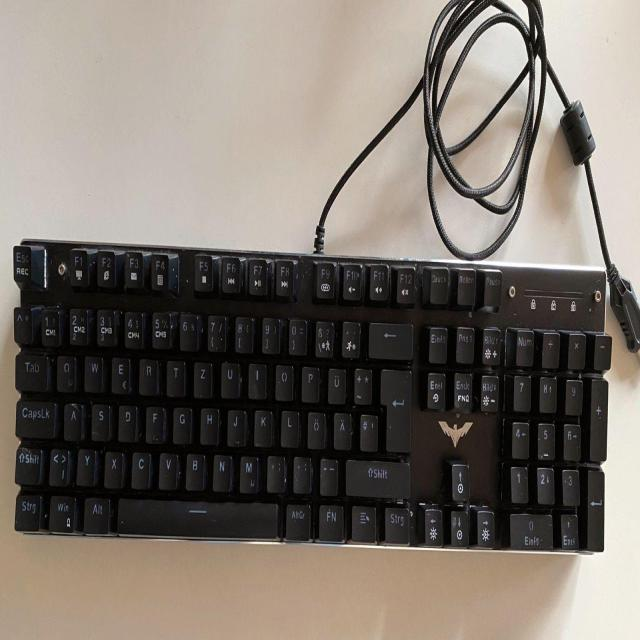0: (287, 315, 307, 354)
1: (39, 305, 60, 346)
2: (67, 305, 88, 343)
3: (95, 306, 116, 346)
4: (123, 309, 144, 349)
5: (150, 309, 171, 349)
6: (178, 310, 198, 350)
7: (206, 312, 226, 351)
8: (233, 313, 253, 352)
9: (260, 314, 280, 353)
a: (63, 400, 82, 438)
accent: (340, 317, 360, 357)
ae: (332, 409, 351, 448)
alt-left: (82, 493, 109, 532)
altgr-right: (284, 501, 310, 538)
b: (184, 450, 204, 488)
c: (130, 448, 150, 487)
caret: (12, 304, 32, 343)
comma: (265, 452, 285, 491)
d: (117, 400, 136, 440)
del: (366, 318, 412, 358)
e: (110, 353, 129, 392)
enter: (379, 365, 410, 452)
f: (144, 402, 164, 441)
g: (172, 403, 191, 442)
h: (199, 404, 218, 443)
hash: (358, 411, 377, 450)
i: (247, 359, 266, 397)
j: (226, 405, 245, 445)
k: (252, 406, 272, 446)
keyboard: (6, 240, 617, 556)
l: (280, 407, 299, 445)
less: (48, 445, 68, 485)
m: (238, 452, 258, 491)
minus: (318, 455, 337, 494)
n: (211, 451, 231, 490)
o: (273, 360, 293, 399)
oe: (306, 408, 325, 447)
p: (300, 362, 318, 400)
plus: (353, 364, 372, 402)
point: (292, 453, 311, 491)
q: (55, 351, 75, 390)
r: (137, 355, 157, 393)
s: (90, 400, 109, 438)
shift-left: (13, 444, 42, 483)
shift-lock: (14, 396, 56, 436)
shift-right: (344, 457, 409, 496)
space: (114, 496, 278, 536)
ss: (313, 318, 333, 356)
strg-left: (14, 491, 41, 529)
strg-right: (383, 505, 409, 542)
t: (165, 356, 184, 394)
tab: (14, 349, 47, 390)
u: (219, 359, 239, 397)
ue: (326, 364, 345, 402)
v: (157, 449, 177, 487)
w: (83, 352, 102, 391)
x: (103, 448, 123, 486)
y: (75, 445, 95, 484)
z: (192, 358, 211, 396)
